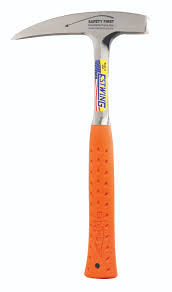hammer: (9, 10, 150, 280)
